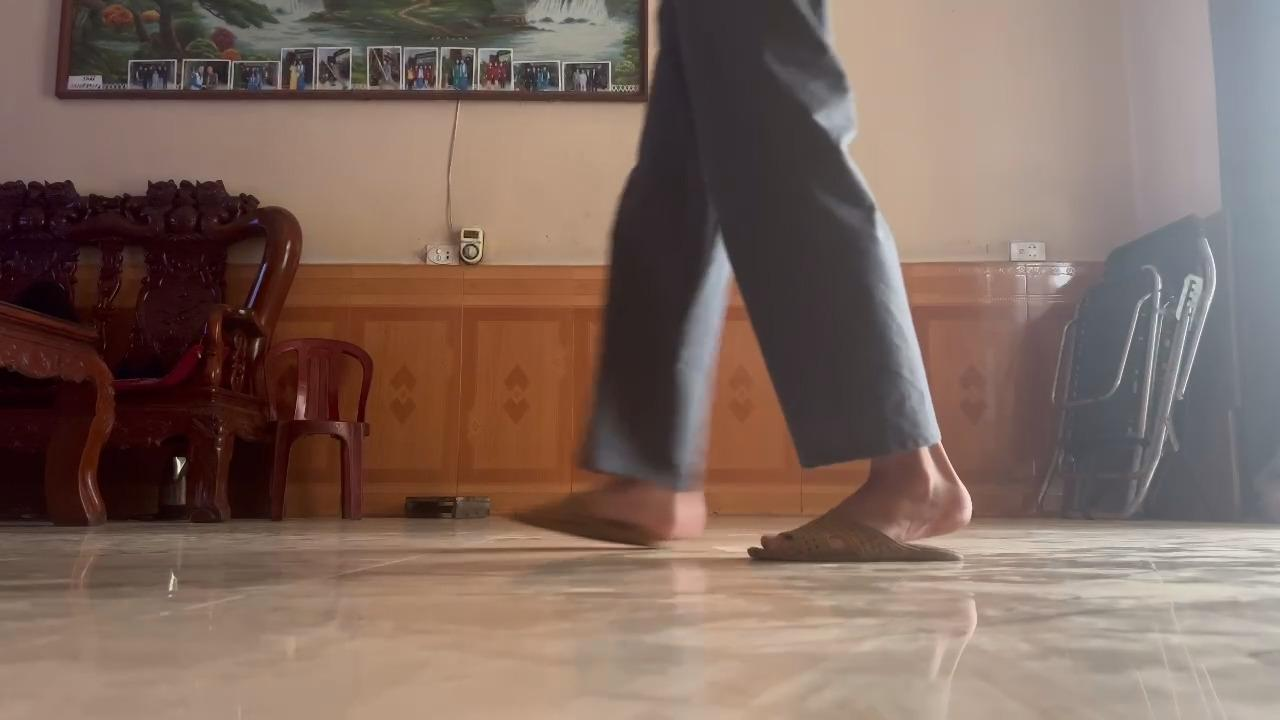no-boot: (742, 452, 983, 573), (498, 479, 717, 554)
